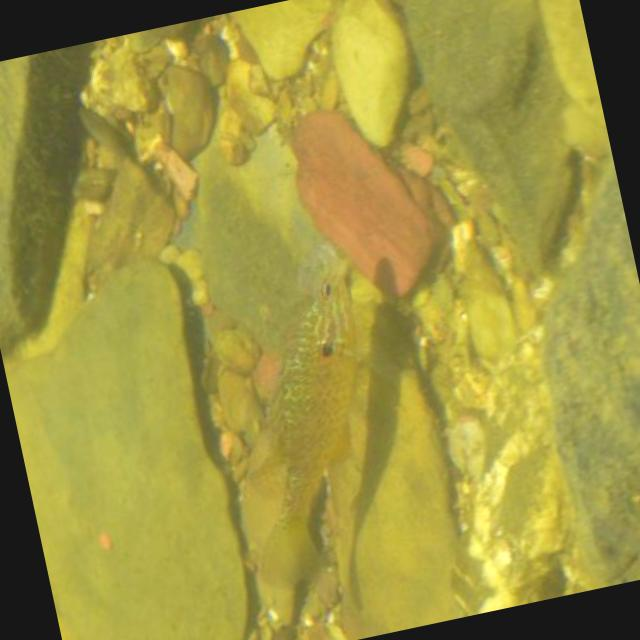Gunes Levregi: (196, 268, 422, 609)
